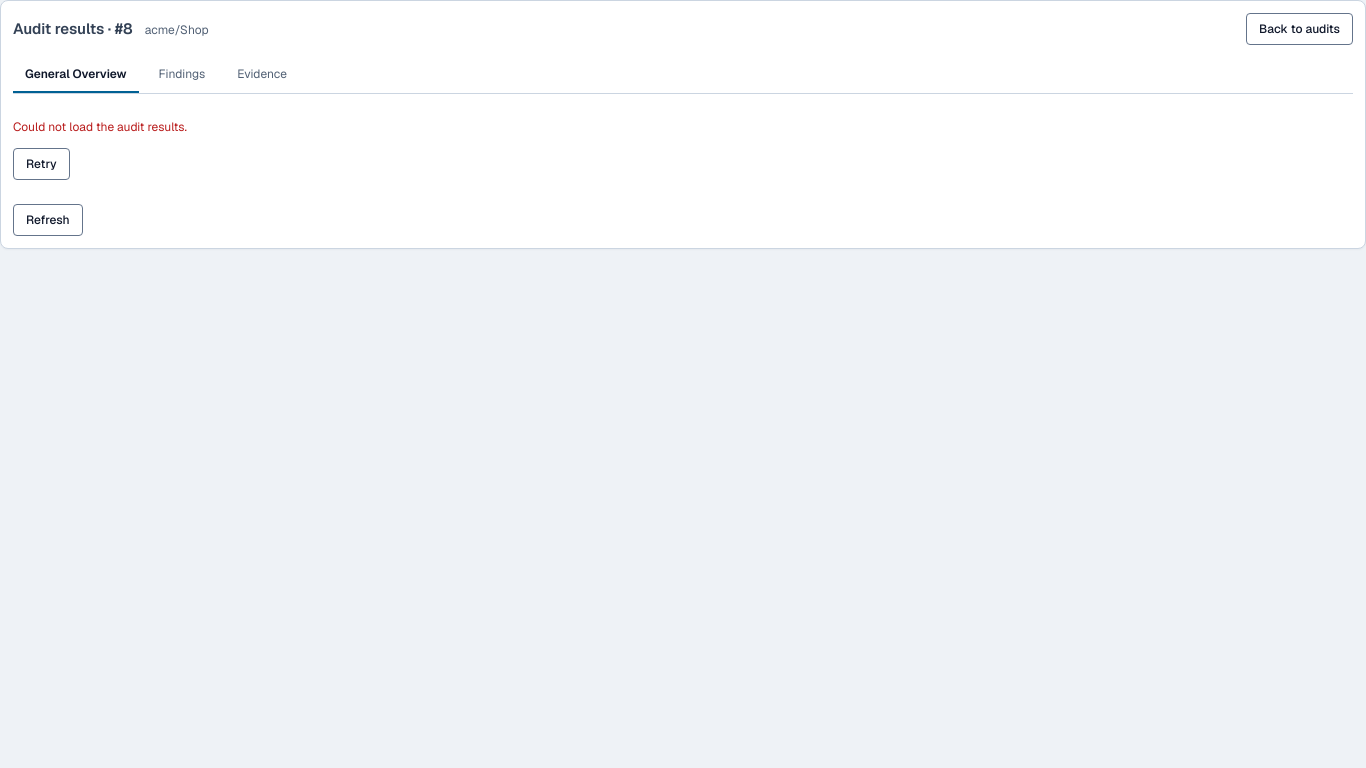
dedicated audit results › allows retrying a failed request
Check: the message shows "Could not load the audit results.", box [13,119,187,135]
Step 1. Click the button "Retry" → (41, 164), box [13,148,70,180]
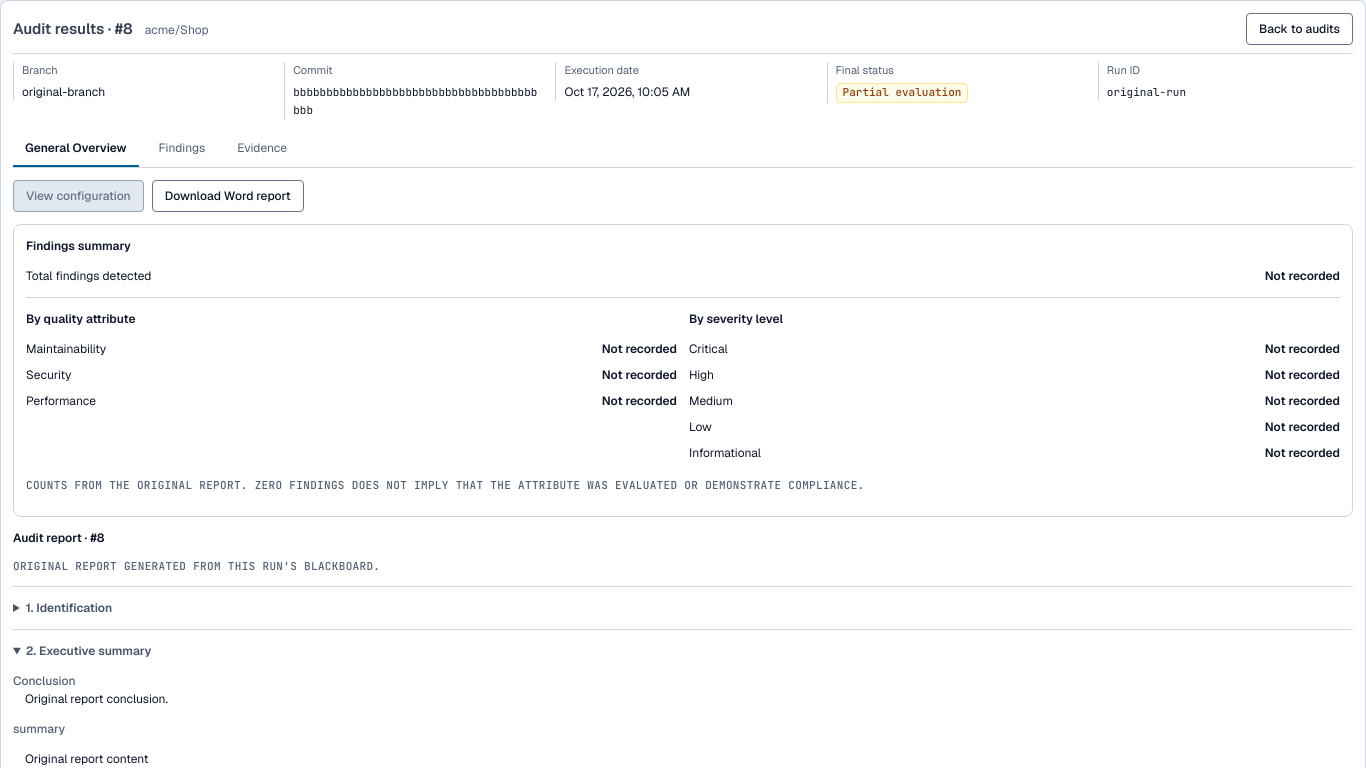
Check: the heading "Audit report · #8" is shown, box [13,530,104,546]
